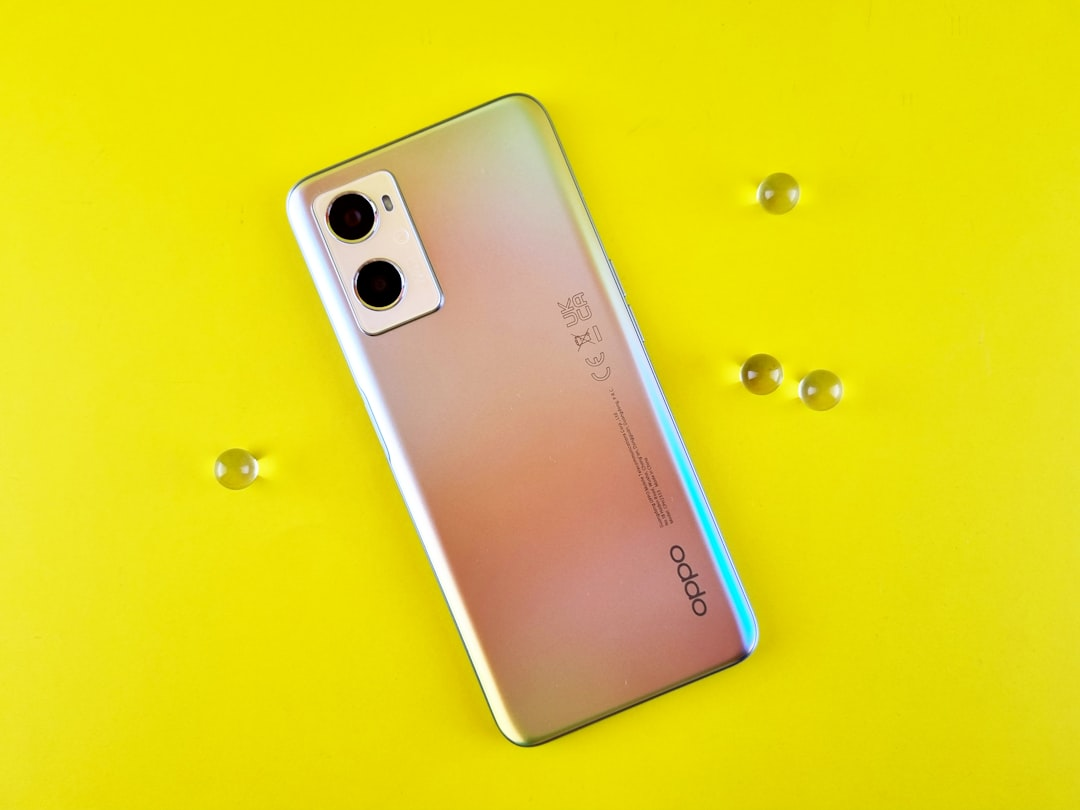phone: (286, 94, 761, 749)
